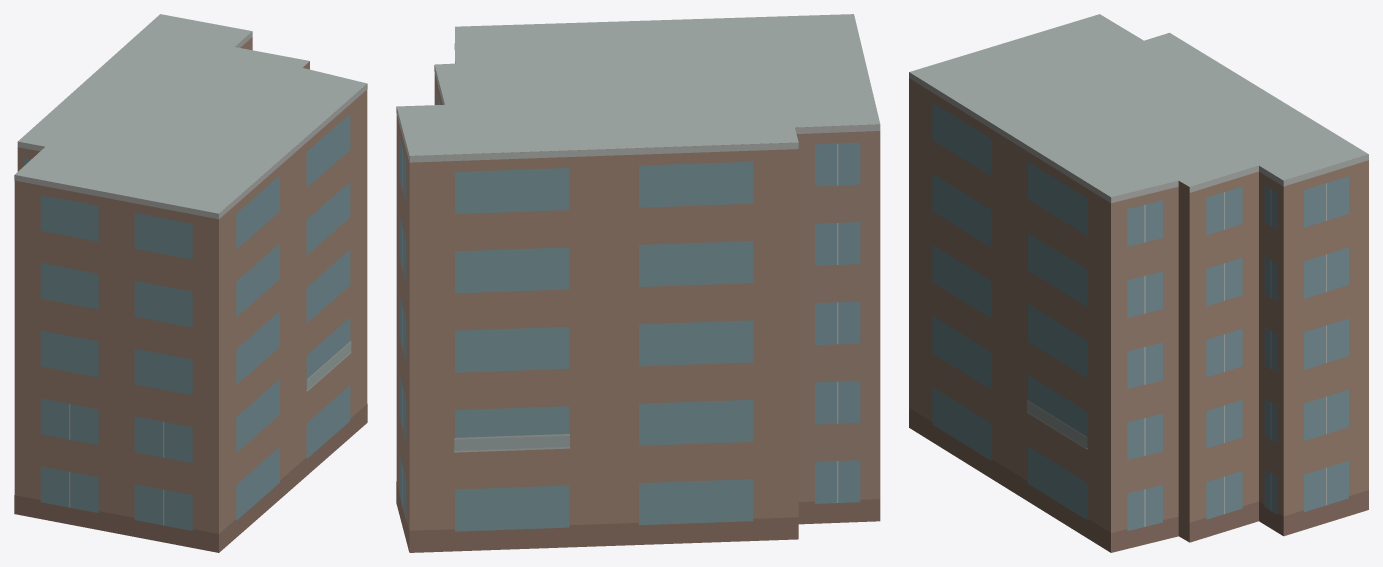
File: survey-upis-32673264.glb
The picture shows the model from 3 angles, left to right: view 1: azimuth 30°, elevation 25°; view 2: azimuth 150°, elevation 25°; view 3: azimuth 270°, elevation 25°; orthographic projection. The views are drawn at different scales.
Parts seen in each view (by area): view 1: survey-upis-32673264.tmp; view 2: survey-upis-32673264.tmp; view 3: survey-upis-32673264.tmp.
Part boxes in pixels (left/top/right/bottom): survey-upis-32673264.tmp: left=14, top=14, right=367, bottom=552; survey-upis-32673264.tmp: left=396, top=14, right=880, bottom=552; survey-upis-32673264.tmp: left=909, top=14, right=1368, bottom=552.
Bounding box in the file's own units: 16.15 × 14.6 × 17.12.
